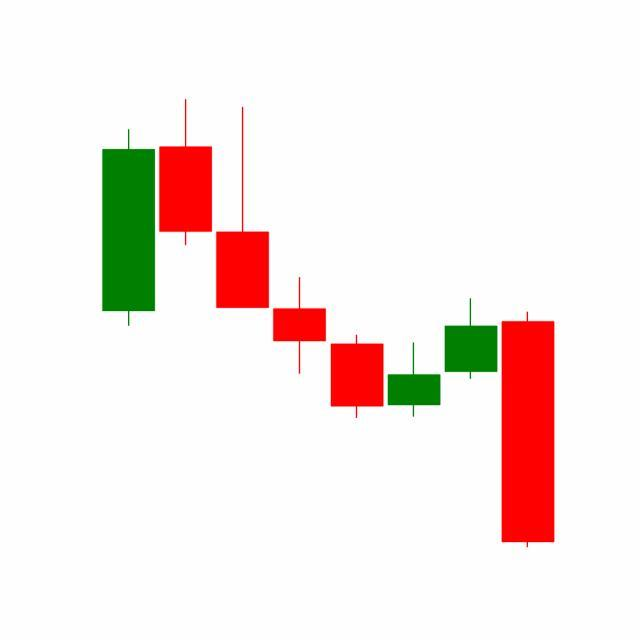Hikkake Pattern: (214, 104, 501, 423)
